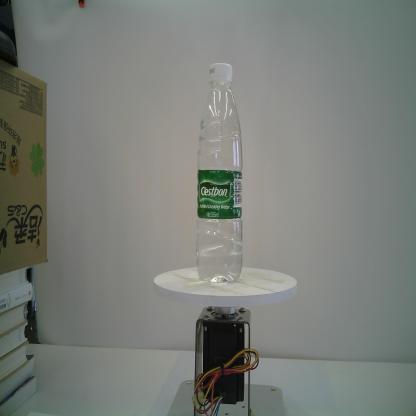Drink: (195, 61, 245, 285)
